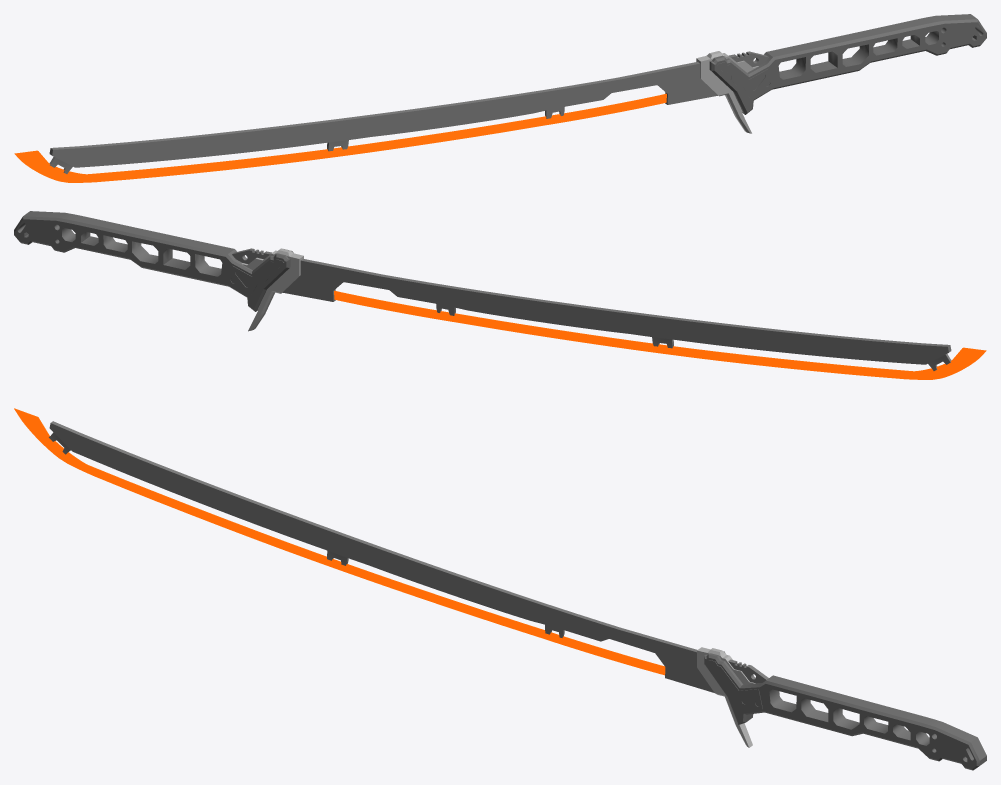
The model's file is katana.glb.
3 renders of one model, top to bottom at view 1: azimuth 30°, elevation 25°; view 2: azimuth 150°, elevation 25°; view 3: azimuth 330°, elevation 25°, orthographic.
Visible parts, largest first — view 1: Plane006, Plane, Cube001, Cube; view 2: Plane006, Plane, Cube001, Cube; view 3: Plane006, Plane, Cube001, Cube.
Boxes of the visible parts, x1=… form: Plane006: x1=49, y1=51, x2=768, y2=173; Plane: x1=709, y1=14, x2=986, y2=114; Cube001: x1=14, y1=93, x2=666, y2=182; Cube: x1=696, y1=51, x2=758, y2=133; Plane006: x1=232, y1=248, x2=951, y2=370; Plane: x1=14, y1=211, x2=293, y2=311; Cube001: x1=334, y1=290, x2=986, y2=379; Cube: x1=241, y1=248, x2=303, y2=331; Plane006: x1=49, y1=421, x2=768, y2=692; Plane: x1=704, y1=651, x2=986, y2=770; Cube001: x1=14, y1=408, x2=665, y2=675; Cube: x1=697, y1=647, x2=755, y2=747.
Bounding box in the file's own units: 3.59 × 0.5619 × 0.064.
